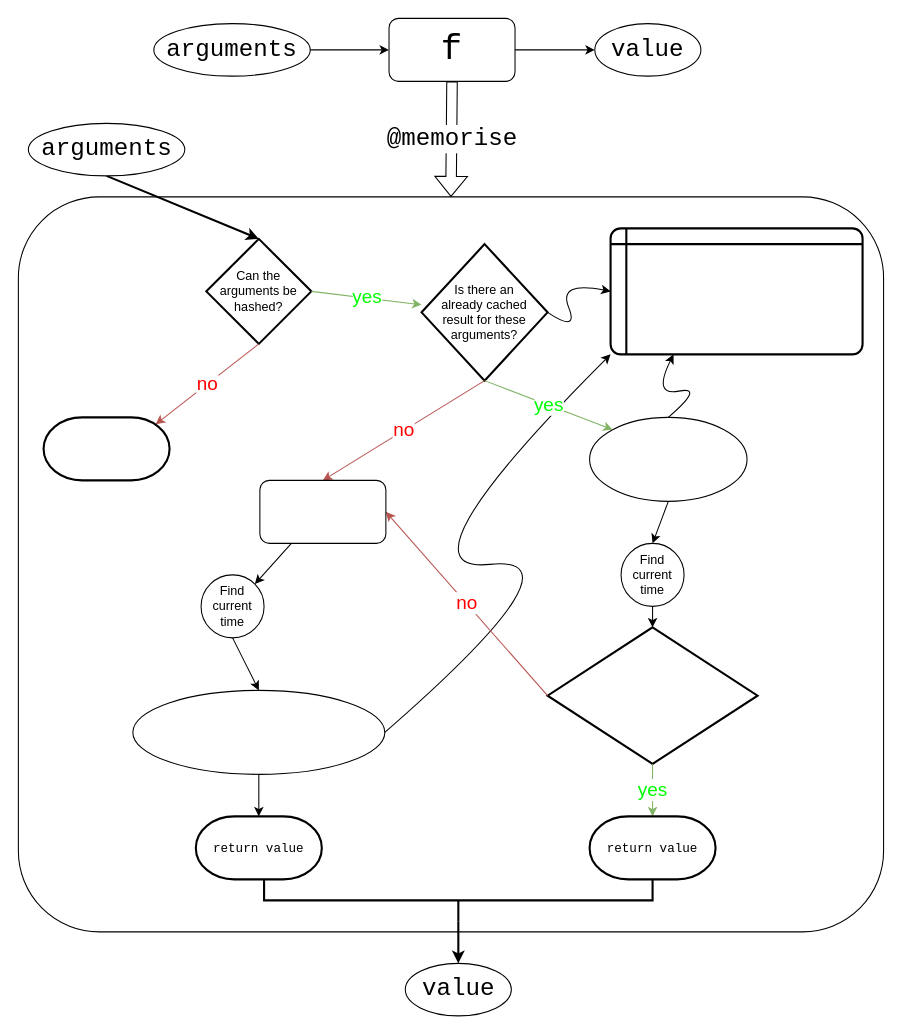
The diagram is 902 pixels wide and 1034 high, and some of its shapes have lost their labels. Each missing label, with the centre of its shape:
"Cache result: memory[arguments] = (value, time)" goes at (x=258, y=731).
"Call f(arguments)" goes at (x=322, y=511).
"Get the cached result: value, time_created" goes at (x=668, y=458).
"Is the result within the time limit? now() - time_created < TIME_LIMIT" goes at (x=652, y=695).
"memory = { args1: (result1, time1), args2: (result2, time2), ... }" goes at (x=736, y=291).
"raise TypeError" goes at (x=106, y=448).
